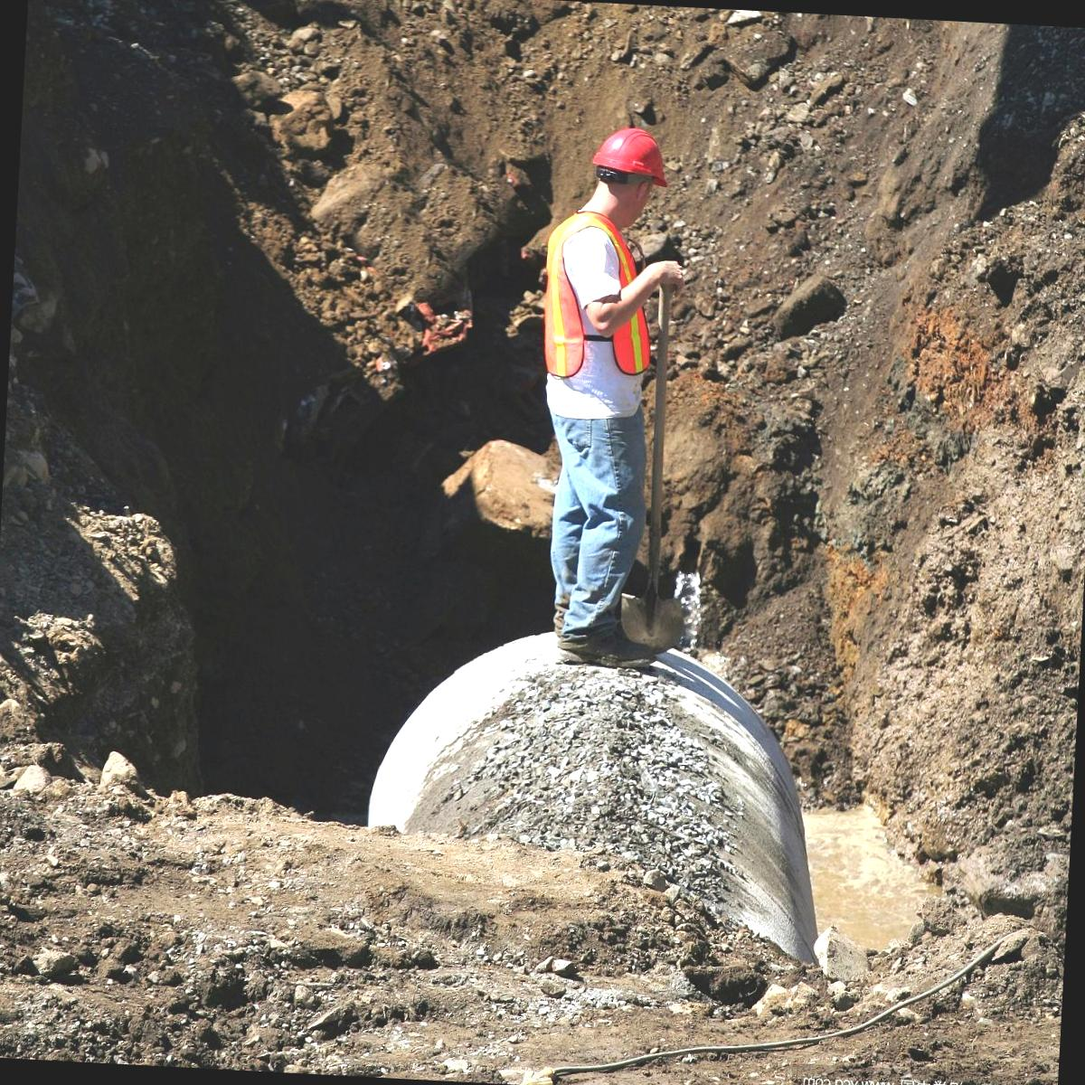helmet: (591, 122, 663, 183)
person: (504, 113, 687, 693)
